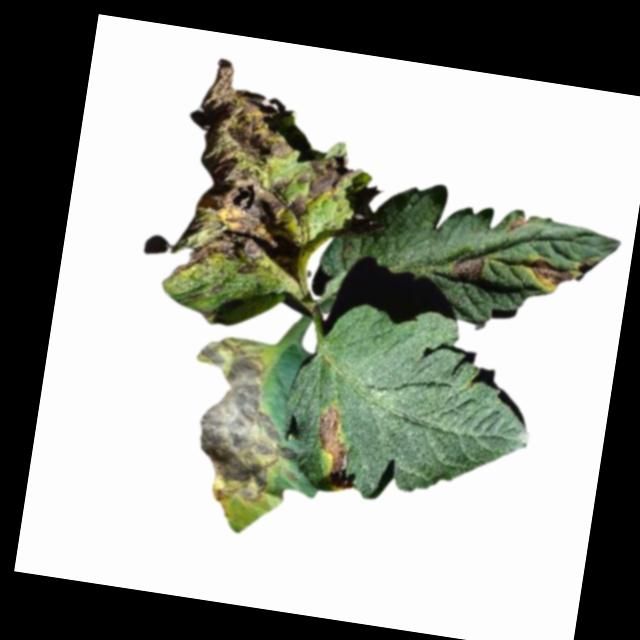Early_blight: (170, 53, 363, 289), (176, 331, 315, 513), (306, 403, 364, 493), (527, 257, 580, 295), (448, 251, 485, 284), (504, 209, 533, 234)
